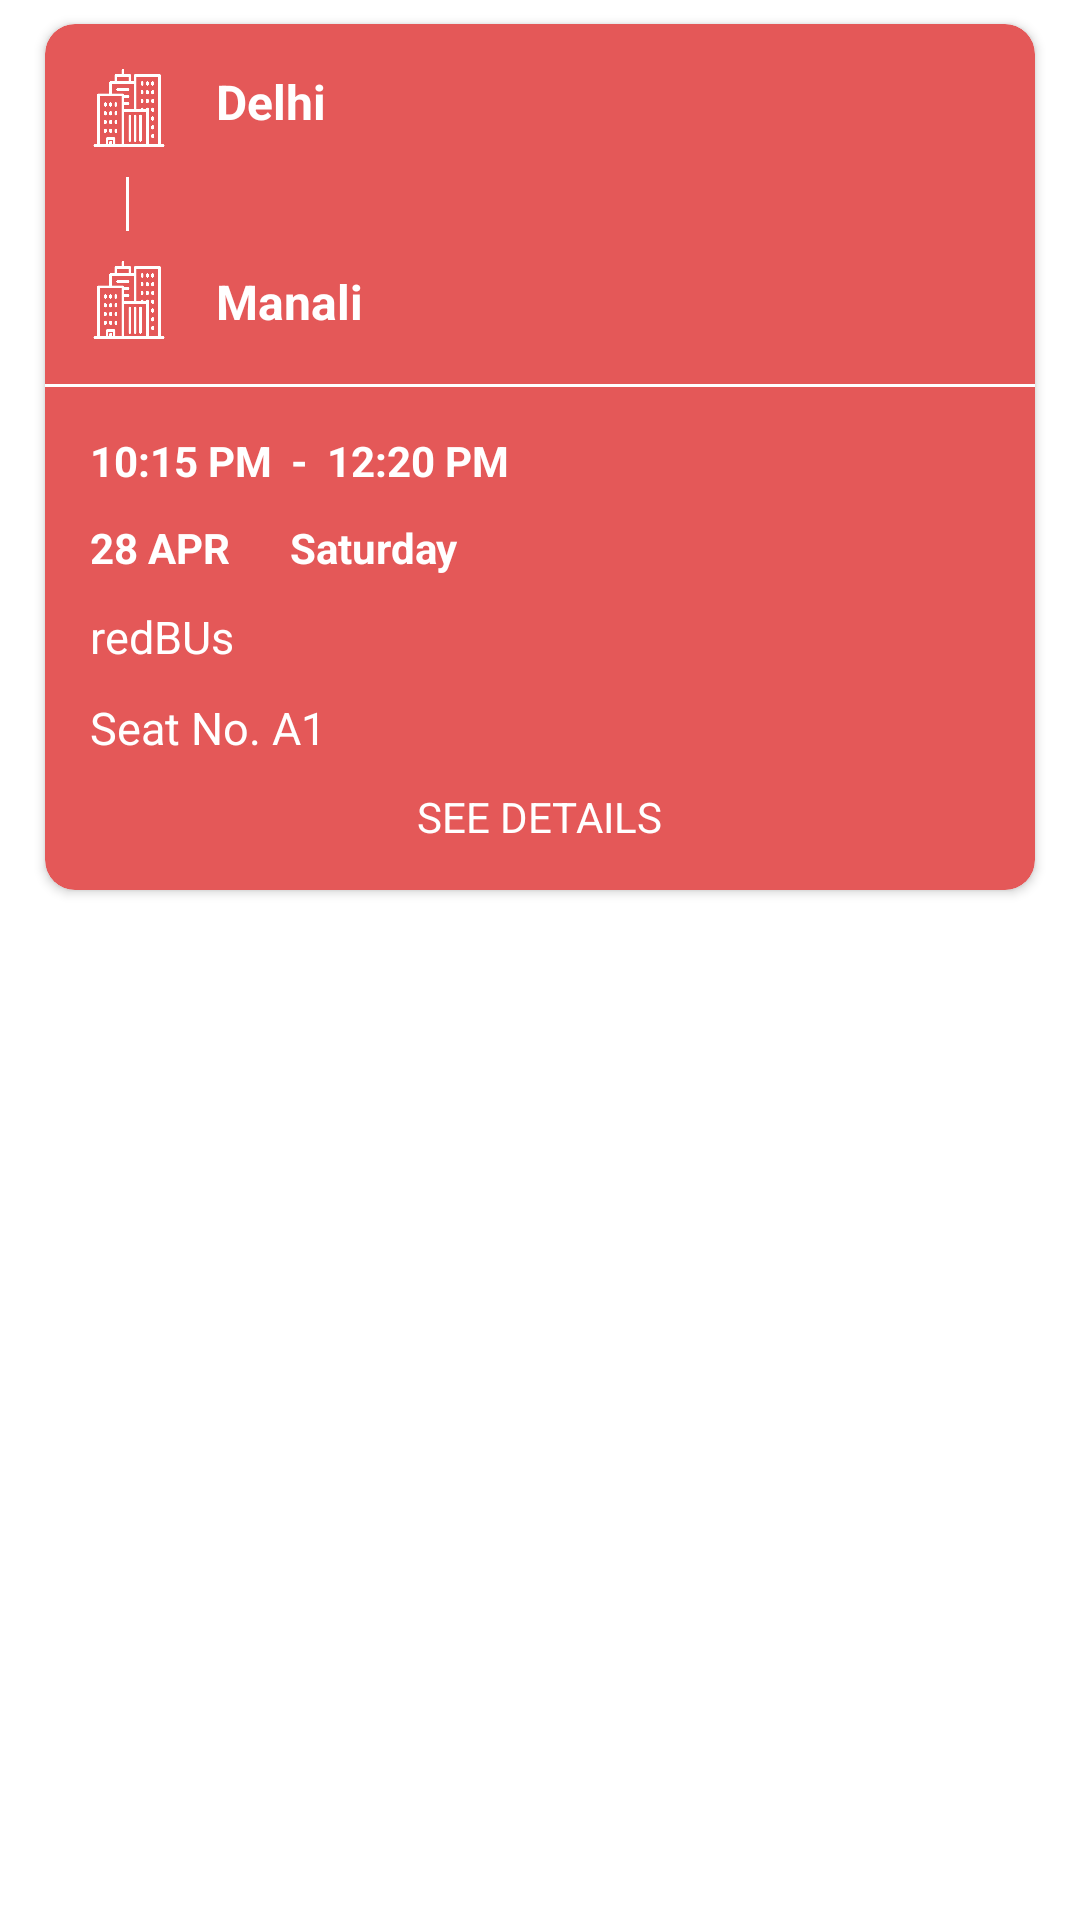

Named icons in this screenshot (1080px×1920px) and their bounding boxes, region(x1, y1, x2, y2):
building: region(93, 69, 165, 147), region(93, 261, 165, 339)
